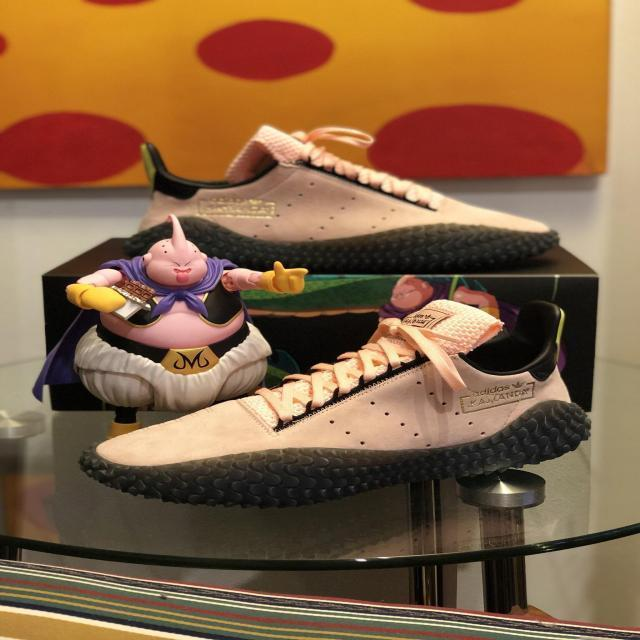shoes: (84, 305, 608, 515), (103, 100, 571, 280)
